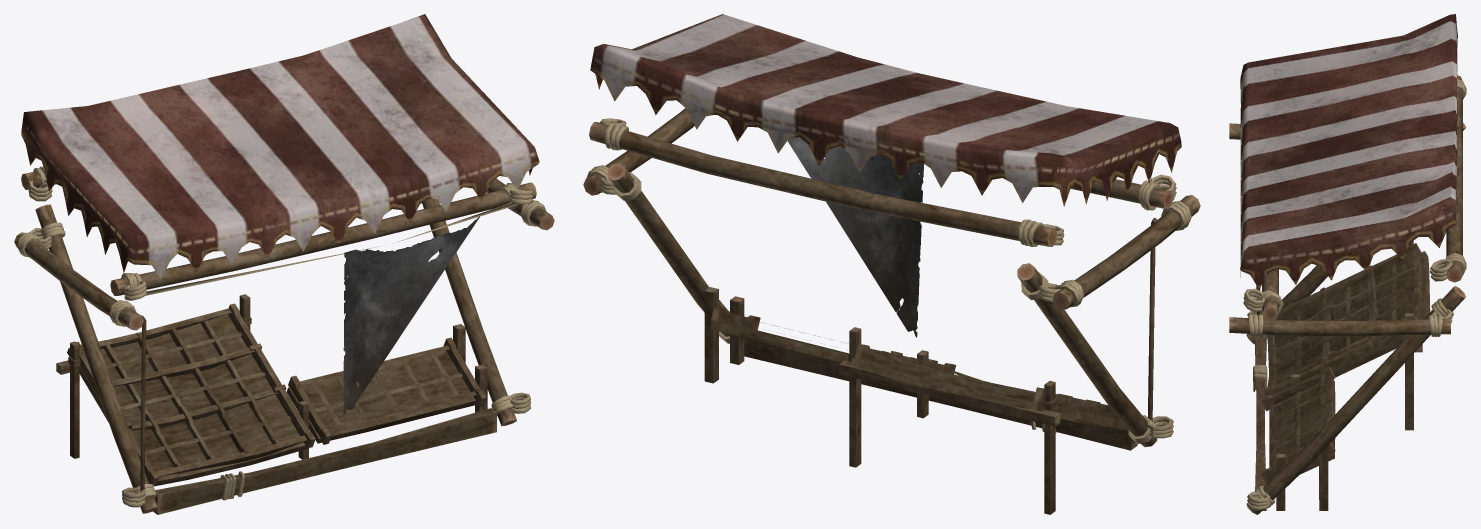
The model's file is prop-stall.3be150ee.glb.
3 renders of one model, left to right at view 1: azimuth 30°, elevation 25°; view 2: azimuth 150°, elevation 25°; view 3: azimuth 270°, elevation 25°, orthographic. The views are drawn at different scales.
Visible parts, largest first — view 1: pCube85_lambert2_0; view 2: pCube85_lambert2_0; view 3: pCube85_lambert2_0.
Part boxes in pixels (bbox=[...]): pCube85_lambert2_0: bbox=[14, 14, 554, 514]; pCube85_lambert2_0: bbox=[583, 14, 1200, 514]; pCube85_lambert2_0: bbox=[1229, 14, 1466, 514].
Size of the model in its own units: 5.89 by 4.39 by 2.89.
1 material, 1 textured.
